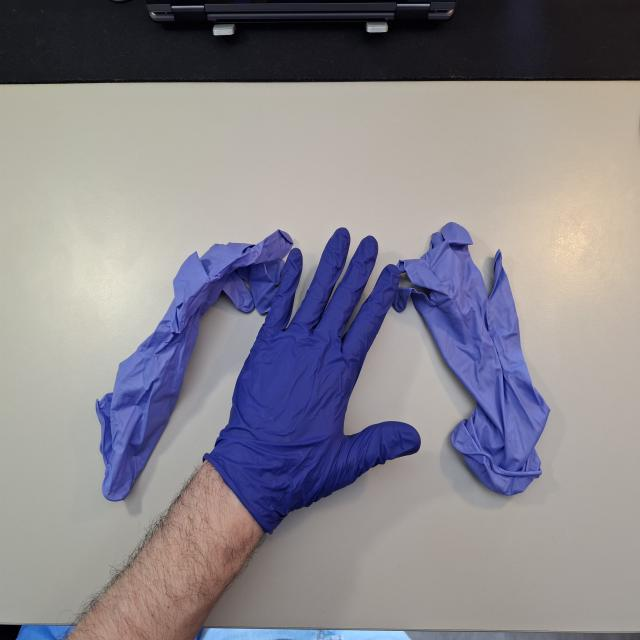glove_on: (218, 225, 422, 538)
